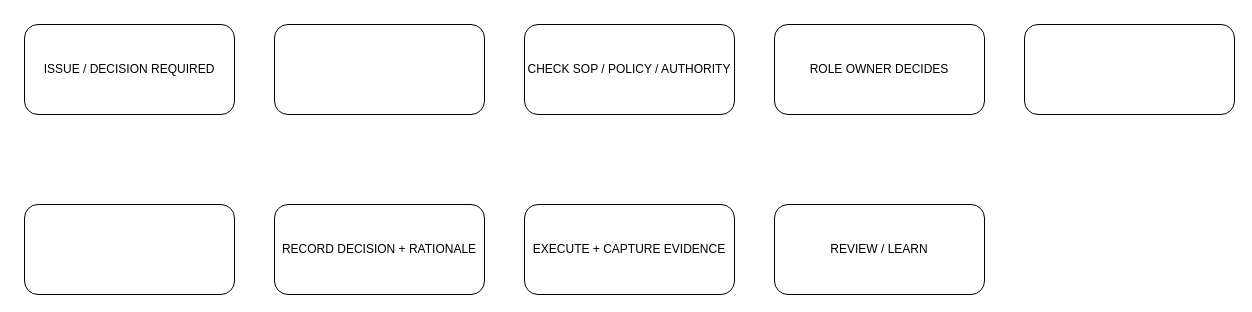
The diagram is 1252 pixels wide and 312 high, and some of its shapes have lost their labels. The centre of each missing label's shape, as x and y in pixels:
APPROVAL REQUIRED?: (1129,69)
CLASSIFY Routine • Operational • Strategic • Risk: (379,69)
ESCALATE TO MANAGER / OWNER: (129,249)
